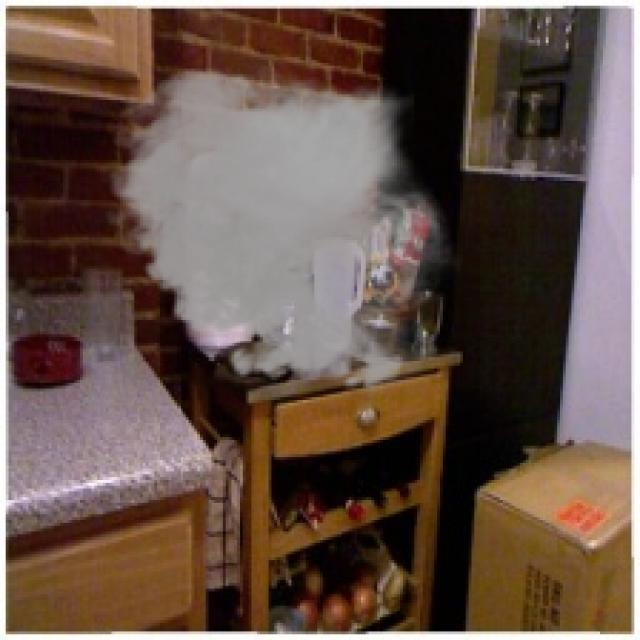Smoke: (97, 57, 463, 400)
